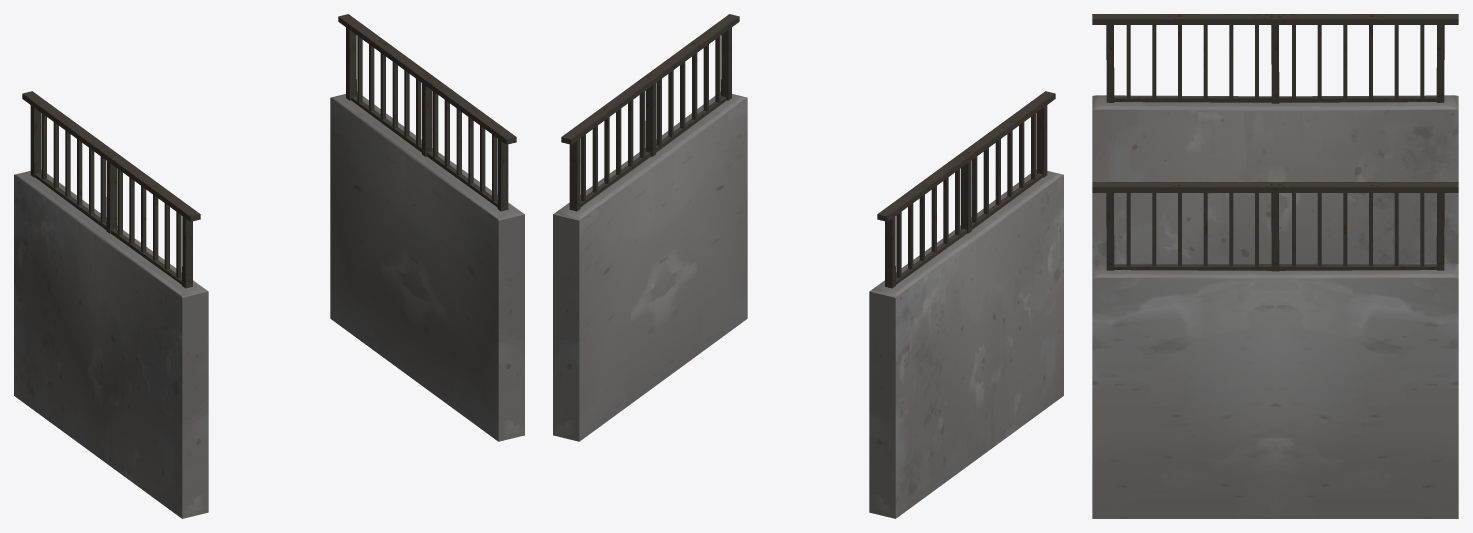
Rendered from Stairs_Rails_Concrete_Straight_2.gltf.
The picture shows the model from 3 angles, left to right: view 1: azimuth 30°, elevation 25°; view 2: azimuth 150°, elevation 25°; view 3: azimuth 270°, elevation 25°; orthographic projection. The views are drawn at different scales.
Visible parts, largest first — view 1: Stairs_Rails_Concrete_Straight_2; view 2: Stairs_Rails_Concrete_Straight_2; view 3: Stairs_Rails_Concrete_Straight_2.
Part boxes in pixels (x1=…): Stairs_Rails_Concrete_Straight_2: x1=14, y1=14, x2=524, y2=518; Stairs_Rails_Concrete_Straight_2: x1=553, y1=14, x2=1063, y2=518; Stairs_Rails_Concrete_Straight_2: x1=1092, y1=14, x2=1458, y2=518.
Bounding box in the file's own units: 2.35 × 1.97 × 2.
2 materials, 2 textured.
